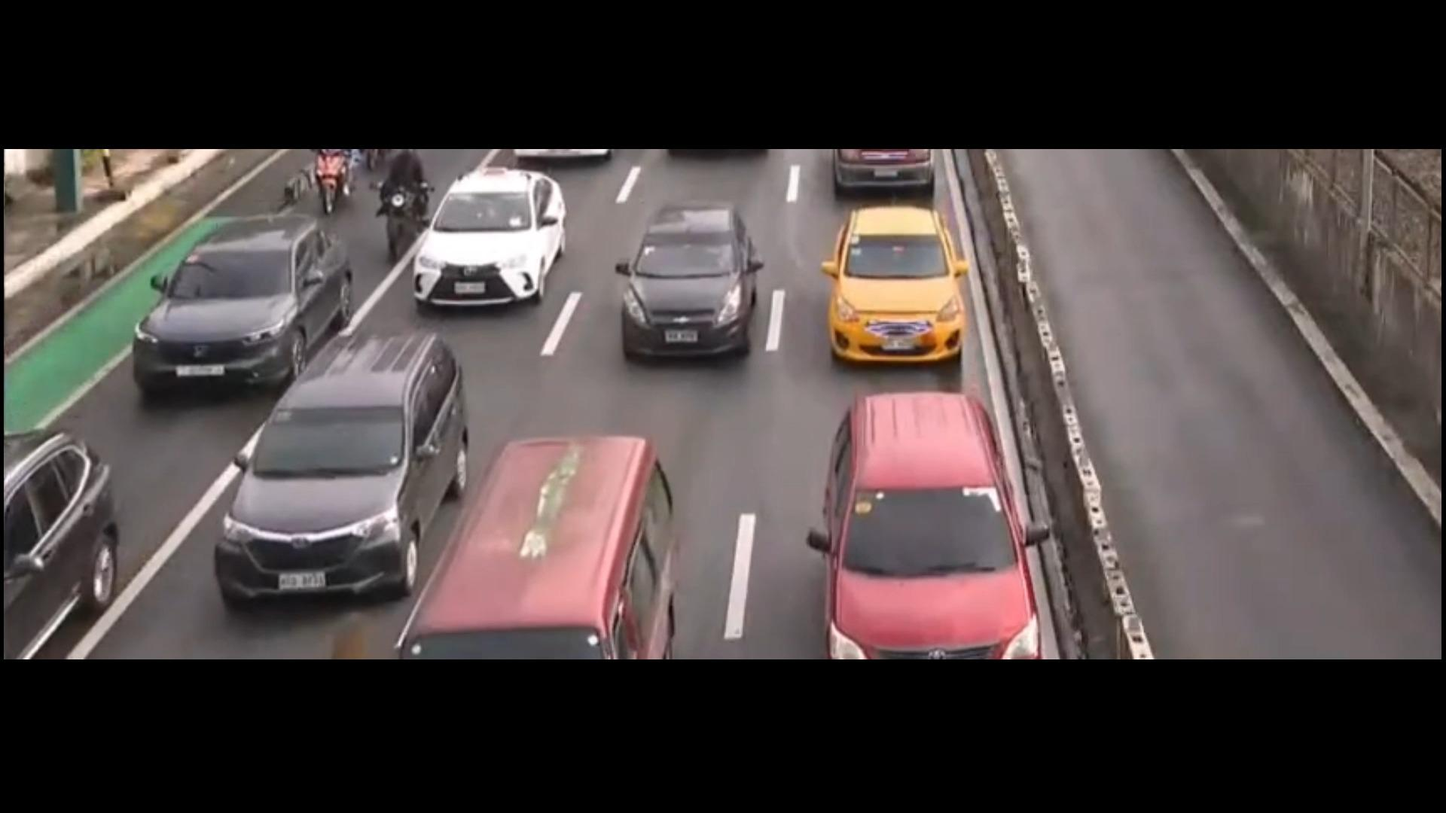Motorcycle: (374, 149, 430, 265)
SUV: (214, 335, 472, 605), (809, 393, 1049, 655)
Sedan: (128, 214, 353, 388), (821, 207, 967, 366), (411, 167, 565, 311), (619, 204, 756, 354)
